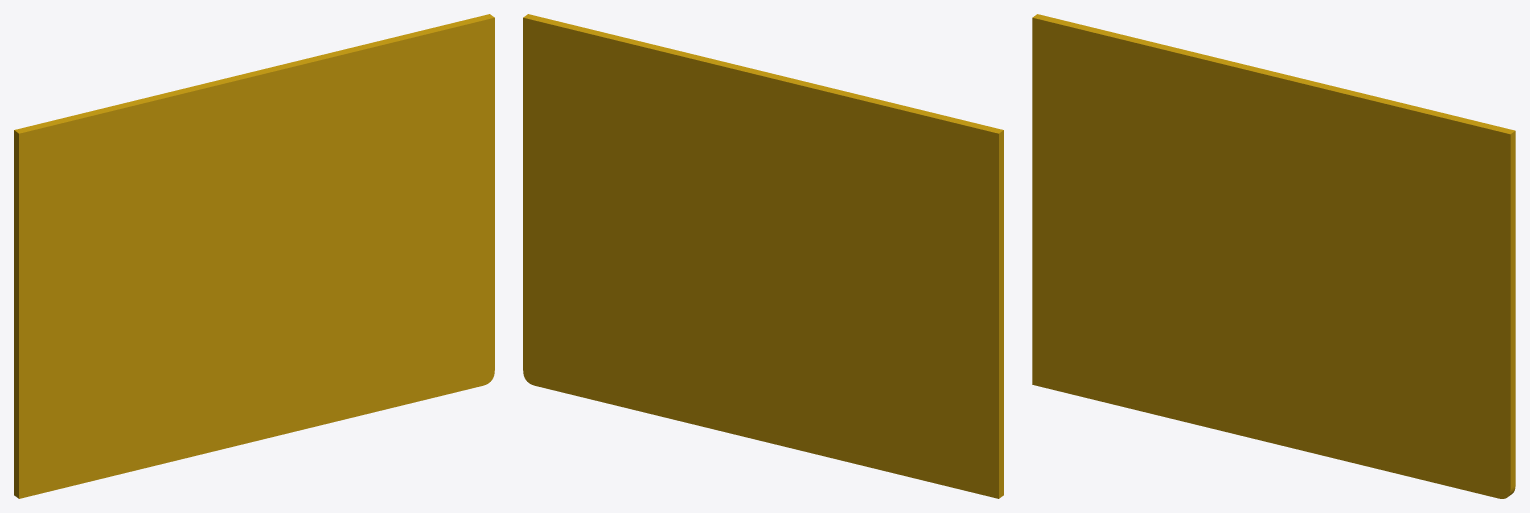
3 renders of one model, left to right at view 1: azimuth 30°, elevation 25°; view 2: azimuth 150°, elevation 25°; view 3: azimuth 330°, elevation 25°, orthographic.
Parts seen in each view (by area): view 1: mesh625, mesh628, mesh624; view 2: mesh626, mesh628, mesh624; view 3: mesh625, mesh628, mesh627.
Boxes of the visible parts, x1,y1,x2,y2 form: mesh625: (19,17,494,498); mesh628: (14,14,494,133); mesh624: (14,130,18,498); mesh626: (523,17,998,498); mesh628: (523,14,1003,133); mesh624: (999,130,1003,498); mesh625: (1032,17,1510,498); mesh628: (1033,14,1514,134); mesh627: (1510,131,1515,487).
Bounding box in the file's own units: 0.6964 × 0.5109 × 0.0127.
